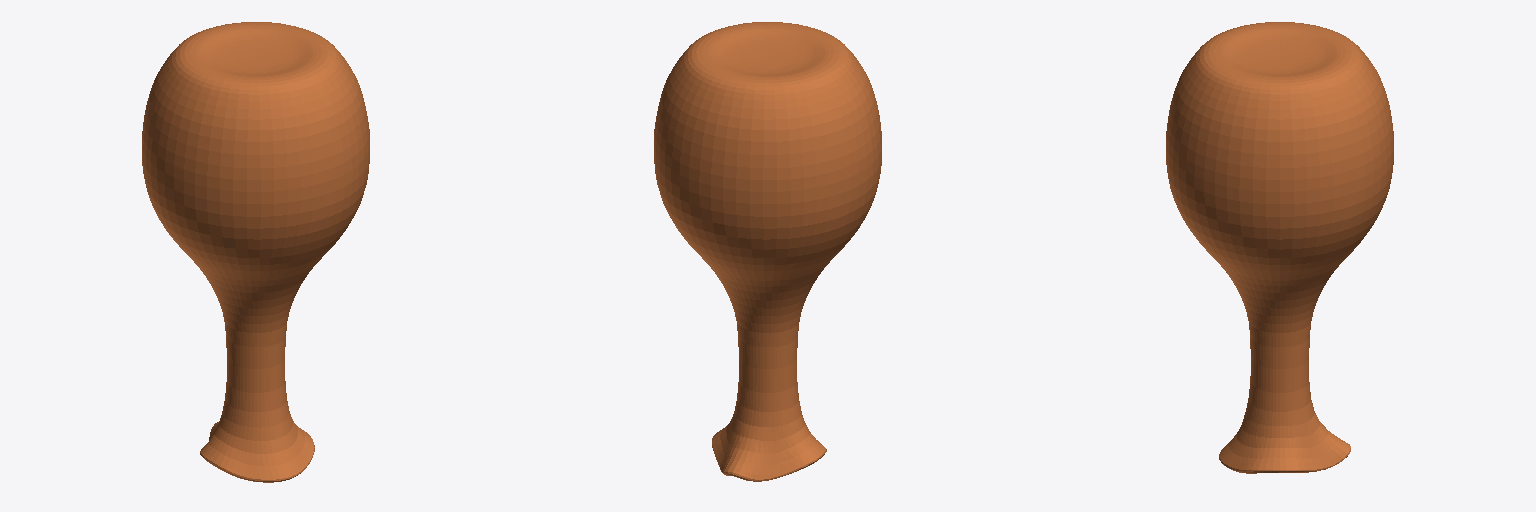
Rendered from flat_vase.obj.
3 views of the same model, side by side, from view 1: azimuth 30°, elevation 25°; view 2: azimuth 150°, elevation 25°; view 3: azimuth 270°, elevation 25° (orthographic).
Visible parts, largest first — view 1: ceramic_vase_01_Cylinder.009; view 2: ceramic_vase_01_Cylinder.009; view 3: ceramic_vase_01_Cylinder.009.
Boxes of the visible parts, x1,y1,x2,y2 form: ceramic_vase_01_Cylinder.009: [142, 22, 369, 482]; ceramic_vase_01_Cylinder.009: [654, 22, 881, 481]; ceramic_vase_01_Cylinder.009: [1166, 22, 1393, 473].
Bounding box in the file's own units: 0.2036 × 0.4003 × 0.2036.